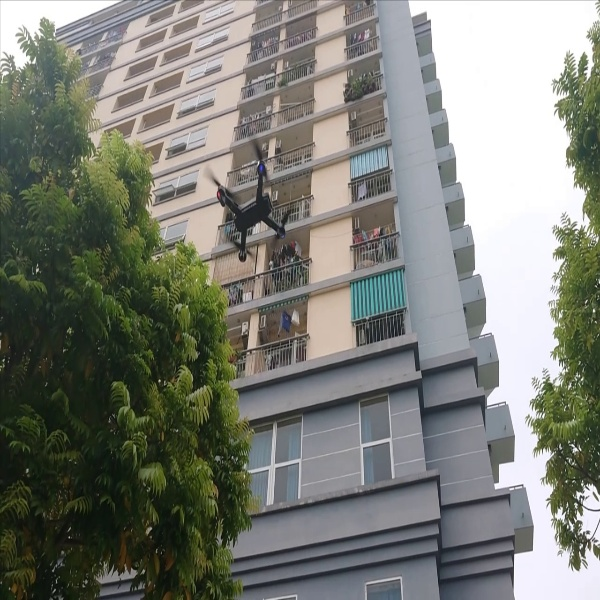drone: (203, 140, 304, 261)
